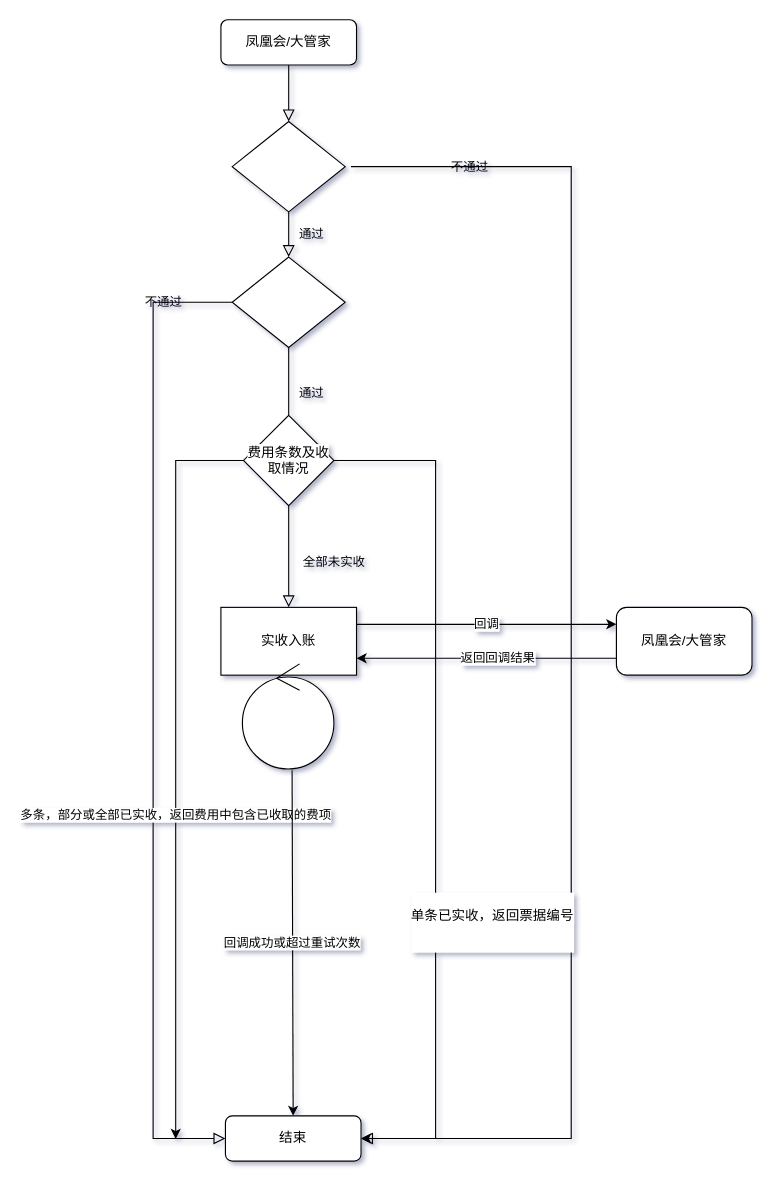
The diagram is 779 pixels wide and 1188 high, and some of its shapes have lost their labels. Each missing label, with the box of its shape:
检查应收状态， 校验应收金额: (231, 256, 345, 347)
检查必填参数， 收款来源: (231, 120, 345, 212)
等待回调结果，无结果会每10秒重试一次，重试三次: (241, 663, 334, 769)
